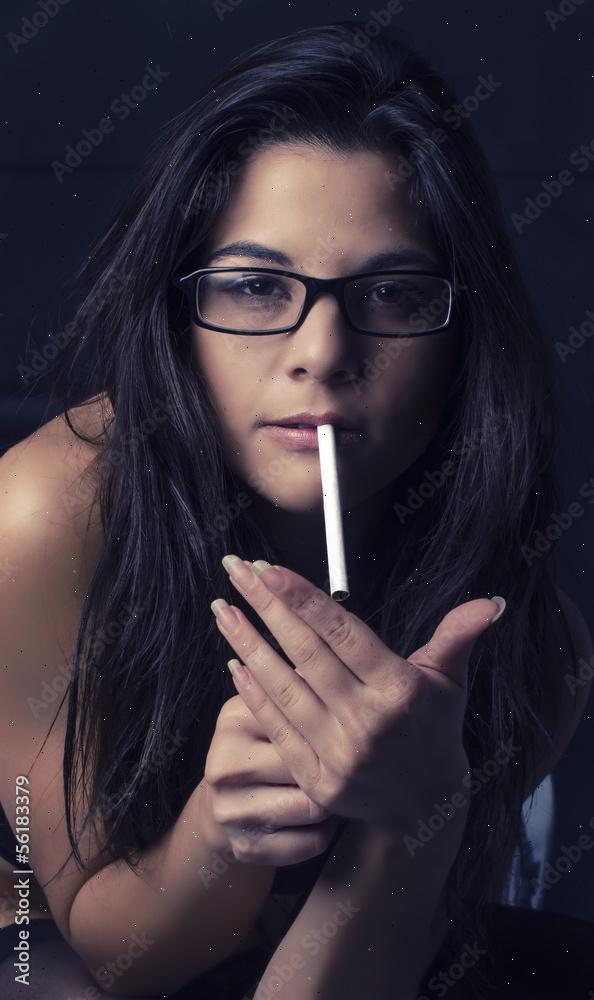cigarette: (317, 424, 348, 600)
